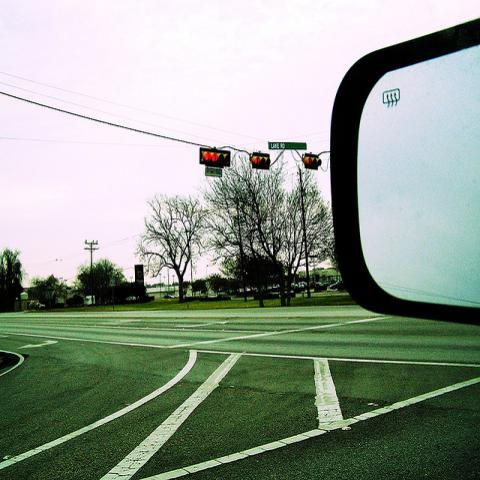car: (328, 15, 480, 327), (266, 282, 282, 299), (330, 280, 346, 290), (186, 293, 192, 298)
